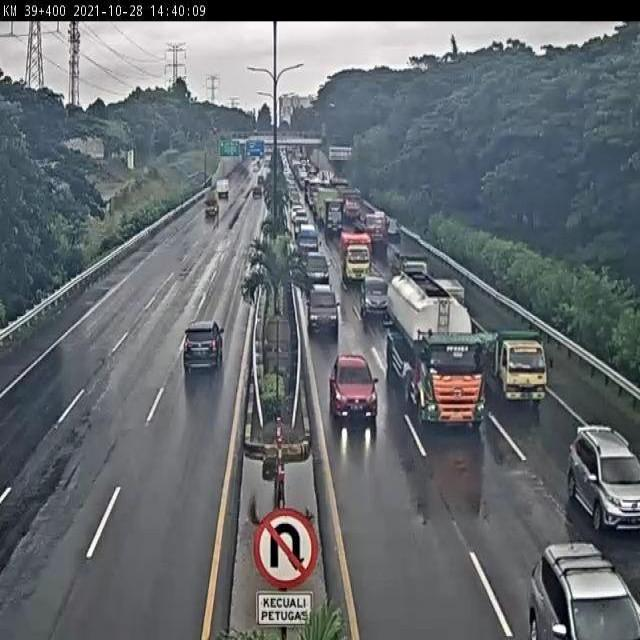car: (329, 355, 382, 425), (358, 279, 394, 328), (305, 287, 340, 336), (197, 290, 233, 330), (300, 251, 329, 289)
truck-m-: (477, 330, 549, 406), (386, 242, 429, 286), (339, 231, 372, 284)
truck-xl-: (387, 276, 486, 429)
